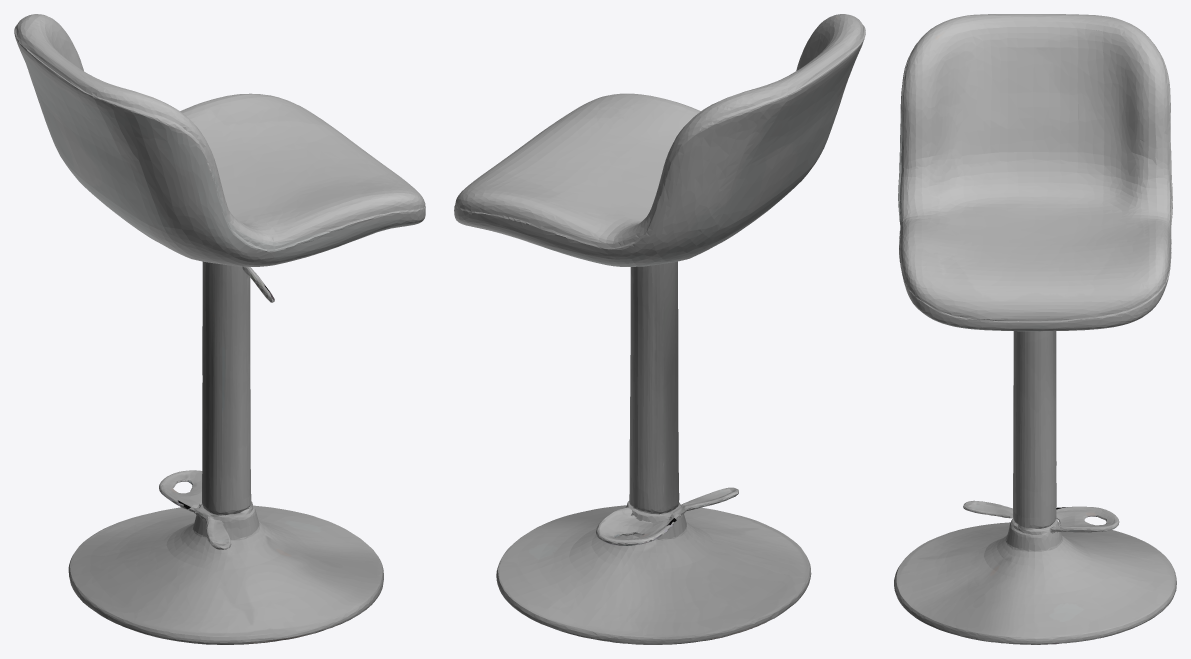
The model's file is bar_stool_35.obj.
The picture shows the model from 3 angles, left to right: view 1: azimuth 30°, elevation 25°; view 2: azimuth 150°, elevation 25°; view 3: azimuth 270°, elevation 25°; orthographic projection. The views are drawn at different scales.
Bounding box in the file's own units: 0.5827 × 0.95 × 0.4872.
1 material, 1 textured.
